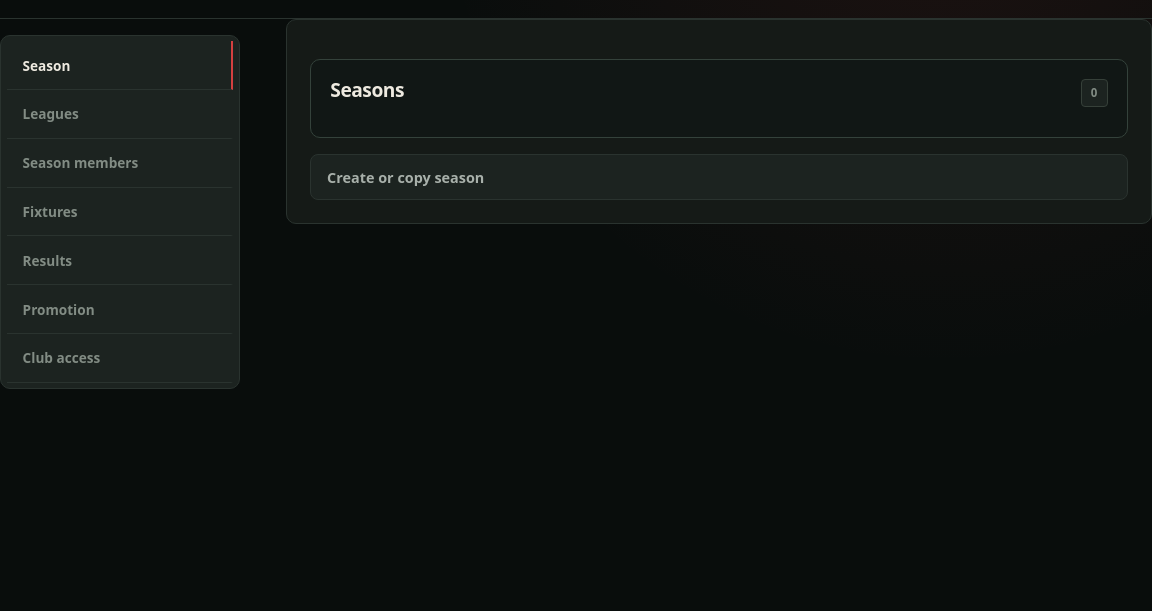
Test: deliberately public club table › copies the public table address when native sharing is unavailable
Click the tab "Leagues": (120, 114) [7,90,233,139]
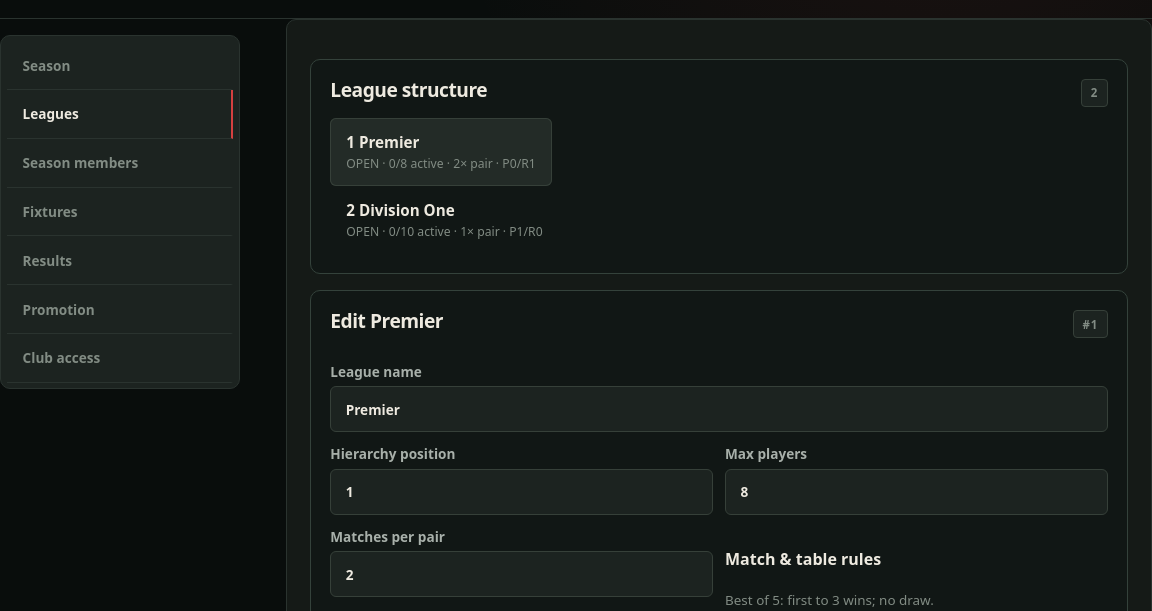
Click the button "1 Premier OPEN · 0/8 active · 2× pair · P0/R1": (441, 152) [330,118,552,186]
(page scrolled)
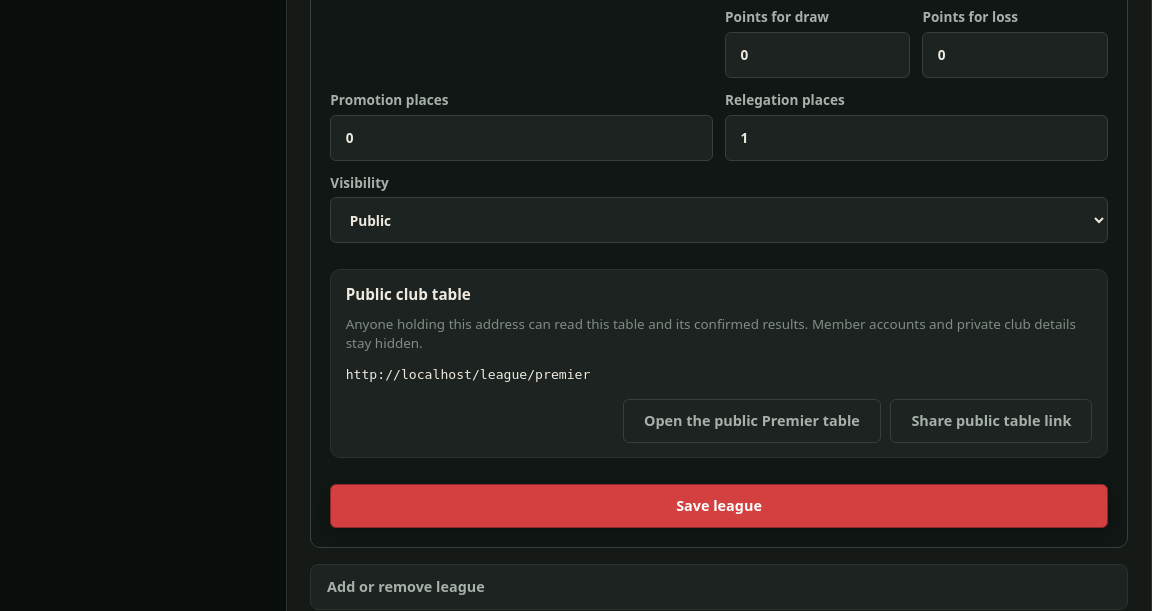
Click the button "Share public table link": (991, 421) [890,399,1092,443]
(page scrolled)
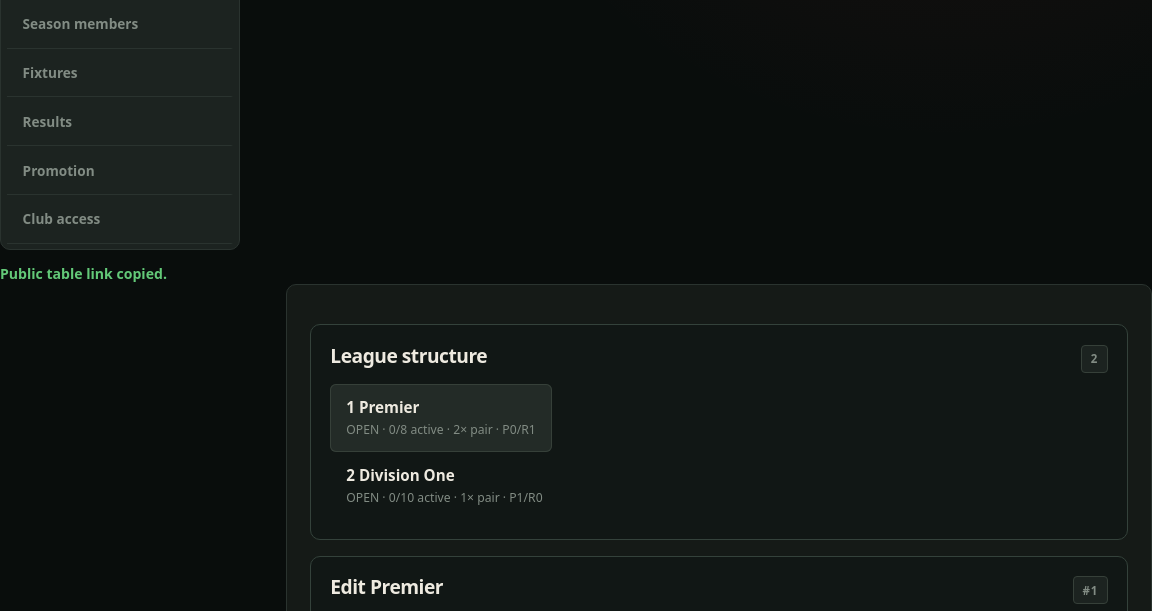
Result: the text "Public table link copied." is shown at [0,264,167,283]
